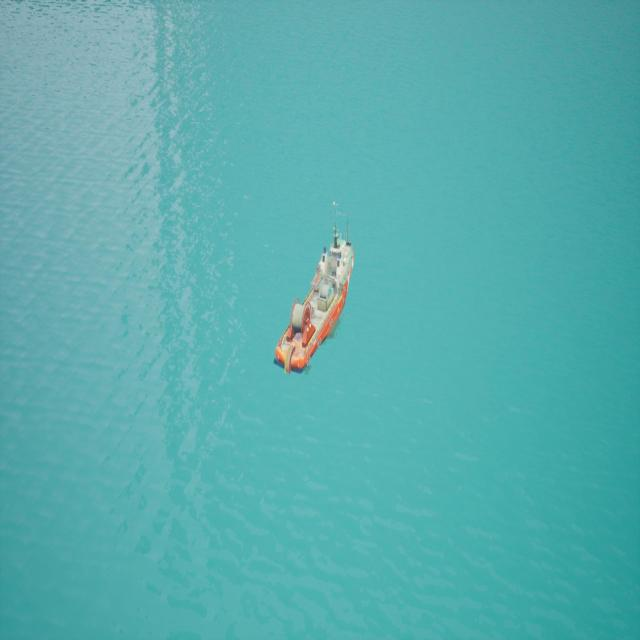tug boat: (298, 202, 355, 375)
